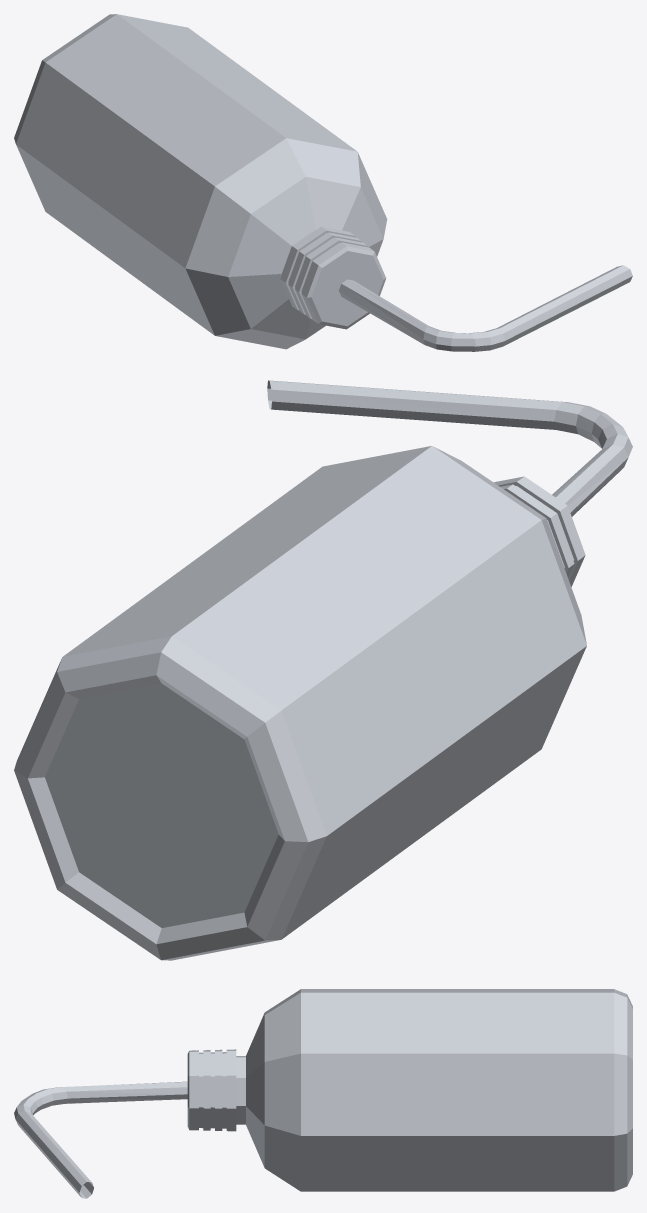
Rendered from misc_wash_bottle.obj.
3 renders of one model, top to bottom at view 1: azimuth 30°, elevation 25°; view 2: azimuth 150°, elevation 25°; view 3: azimuth 270°, elevation 25°, orthographic. The views are drawn at different scales.
Parts seen in each view (by area): view 1: Cylinder.620, Cylinder.621; view 2: Cylinder.620, Cylinder.621; view 3: Cylinder.620, Cylinder.621.
Part boxes in pixels (x1,y1,x2,y2): Cylinder.620: (14,14,387,349); Cylinder.621: (280,226,632,351); Cylinder.620: (14,446,586,960); Cylinder.621: (267,380,632,586); Cylinder.620: (236,989,632,1191); Cylinder.621: (14,1049,236,1198).
Bounding box in the file's own units: 0.1414 × 0.0871 × 0.25.
Materials: 1 (1 with a texture image).
